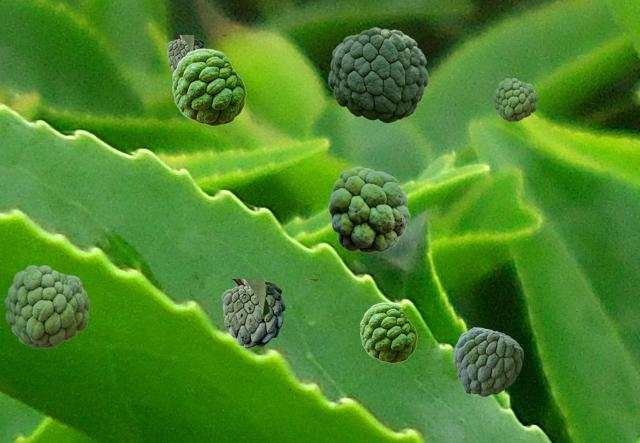atis: (328, 27, 427, 122), (328, 166, 409, 252), (4, 265, 88, 347), (221, 279, 318, 347), (172, 48, 245, 125), (453, 327, 522, 395), (360, 302, 416, 362), (166, 35, 226, 71), (493, 78, 536, 120)
